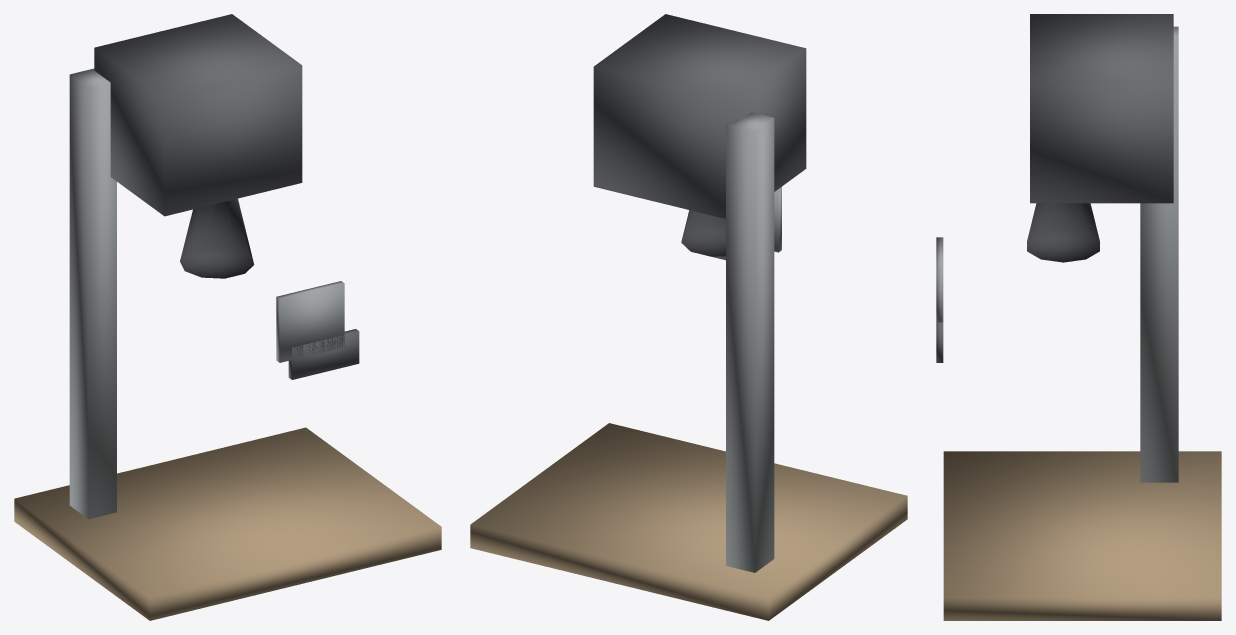
The model's file is photo_enlarger__weathered.glb.
3 views of the same model, side by side, from view 1: azimuth 30°, elevation 25°; view 2: azimuth 150°, elevation 25°; view 3: azimuth 270°, elevation 25° (orthographic). The views are drawn at different scales.
Parts seen in each view (by area): view 1: world; view 2: world; view 3: world.
Boxes of the visible parts, box(x1,y1,x2,y2) form: world: box(14, 14, 441, 620); world: box(470, 14, 907, 620); world: box(936, 14, 1221, 620).
Size of the model in its own units: 0.72 by 1.13 by 0.5954.
